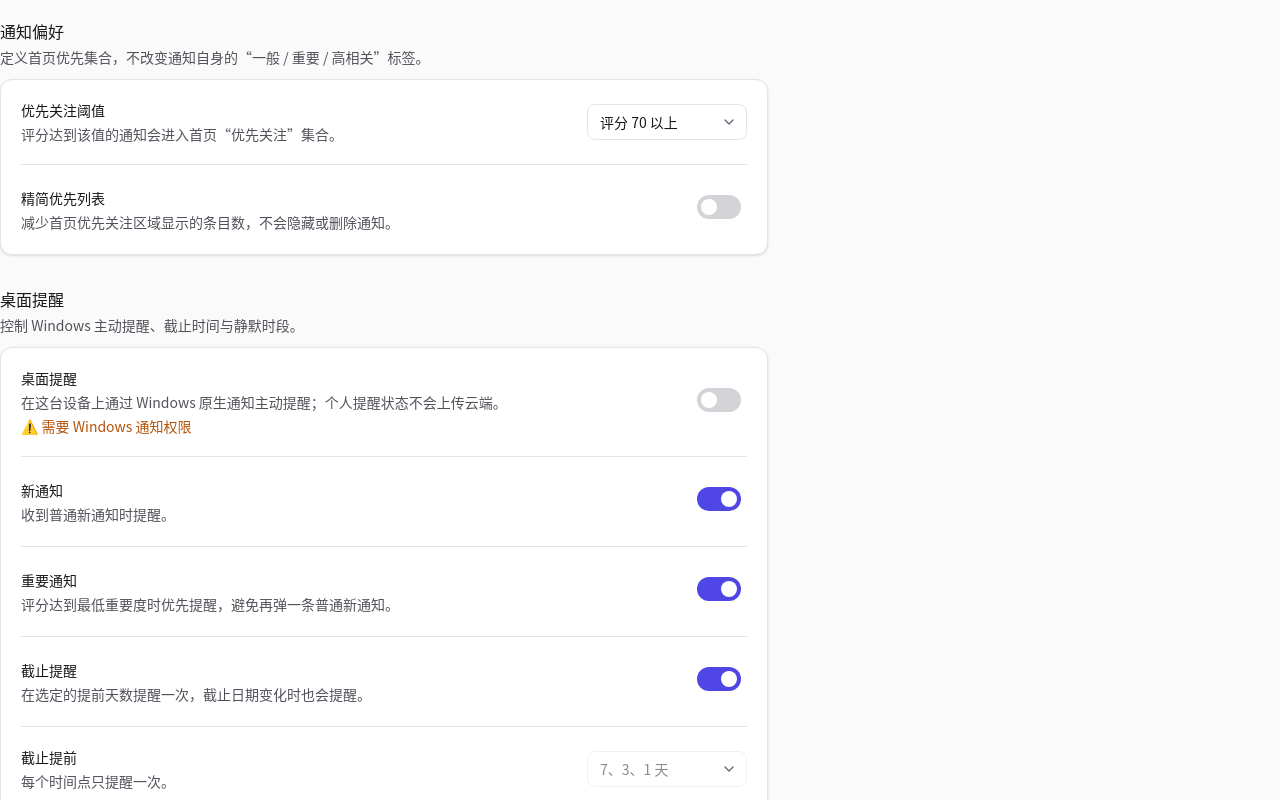
Test: SettingsPage › keeps the preference off and shows permission guidance when permission is denied
(page scrolled)
expect the text "⚠️ 需要 Windows 通知权限" is shown: met, box [21,416,192,436]
Step 1. Click the switch named "桌面提醒" in the row of "在这台设备上通过 Windows 原生通知主动提醒；个人提醒状态不会上传云端。" → point(719, 400), box [691,378,747,422]
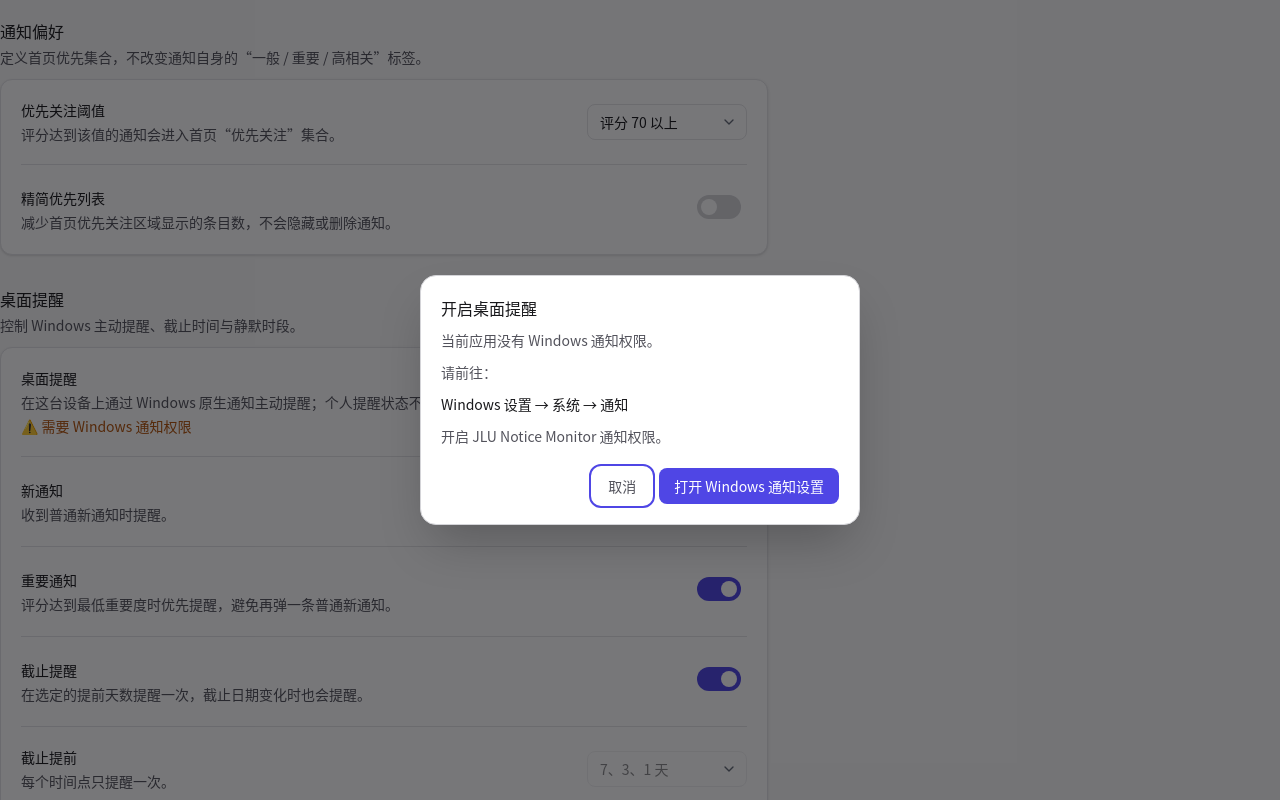
expect the dialog "开启桌面提醒" shows "Windows 设置 → 系统 → 通知": met, box [441,394,628,414]
Step 2. Click the button "取消" → point(622, 486), box [593,468,651,504]
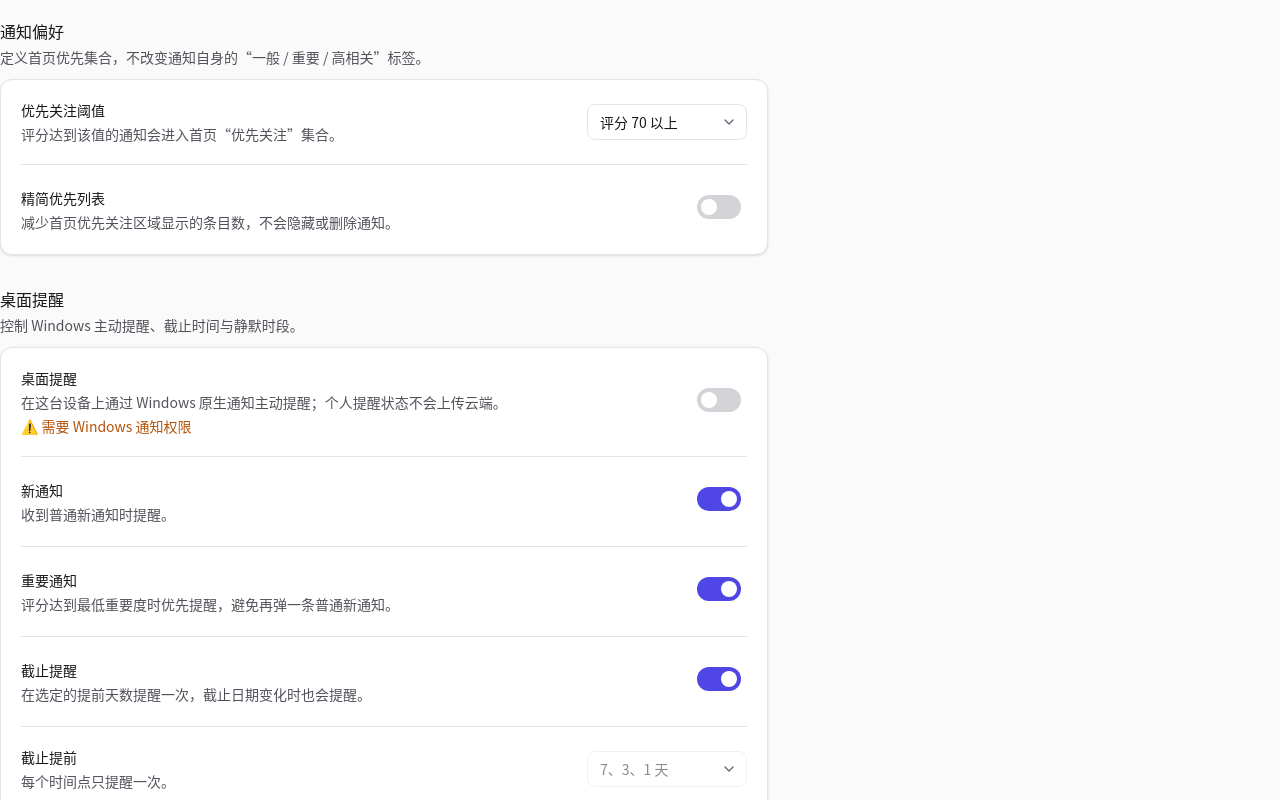
expect the heading "开启桌面提醒" is gone: met
